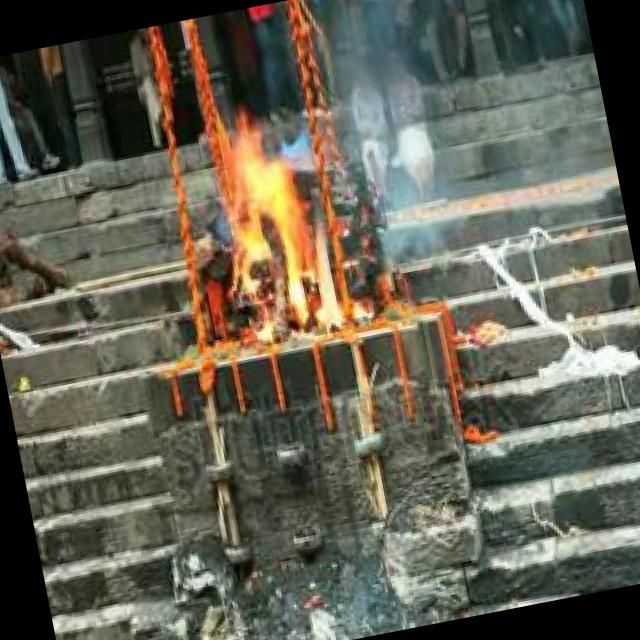Fire: (203, 88, 364, 338)
